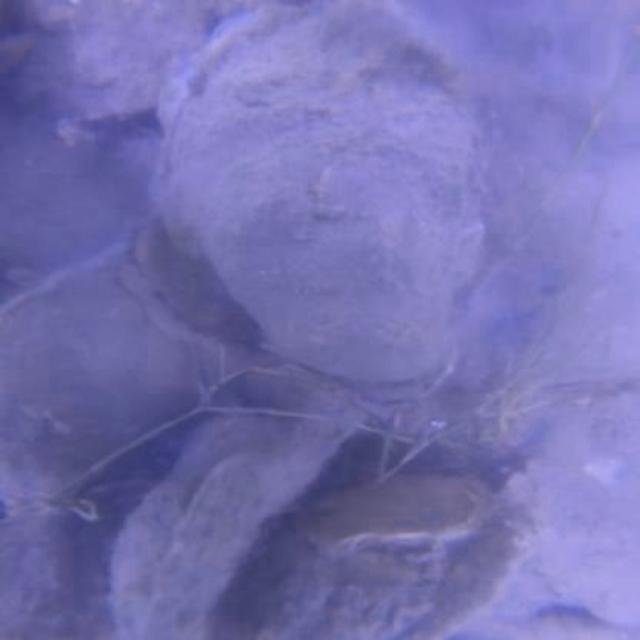Oyster-Closed: (155, 0, 500, 407), (0, 261, 238, 514), (401, 509, 549, 638), (292, 474, 487, 557)
Oyster-Open: (111, 368, 373, 638)
